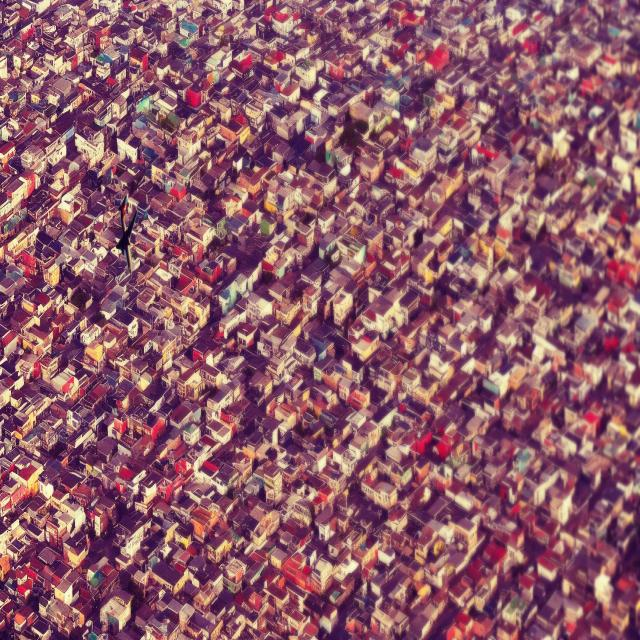airplane: (116, 196, 138, 272)
